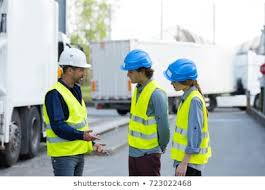Person_wearing_helmet: (54, 42, 94, 73), (119, 41, 154, 75)
